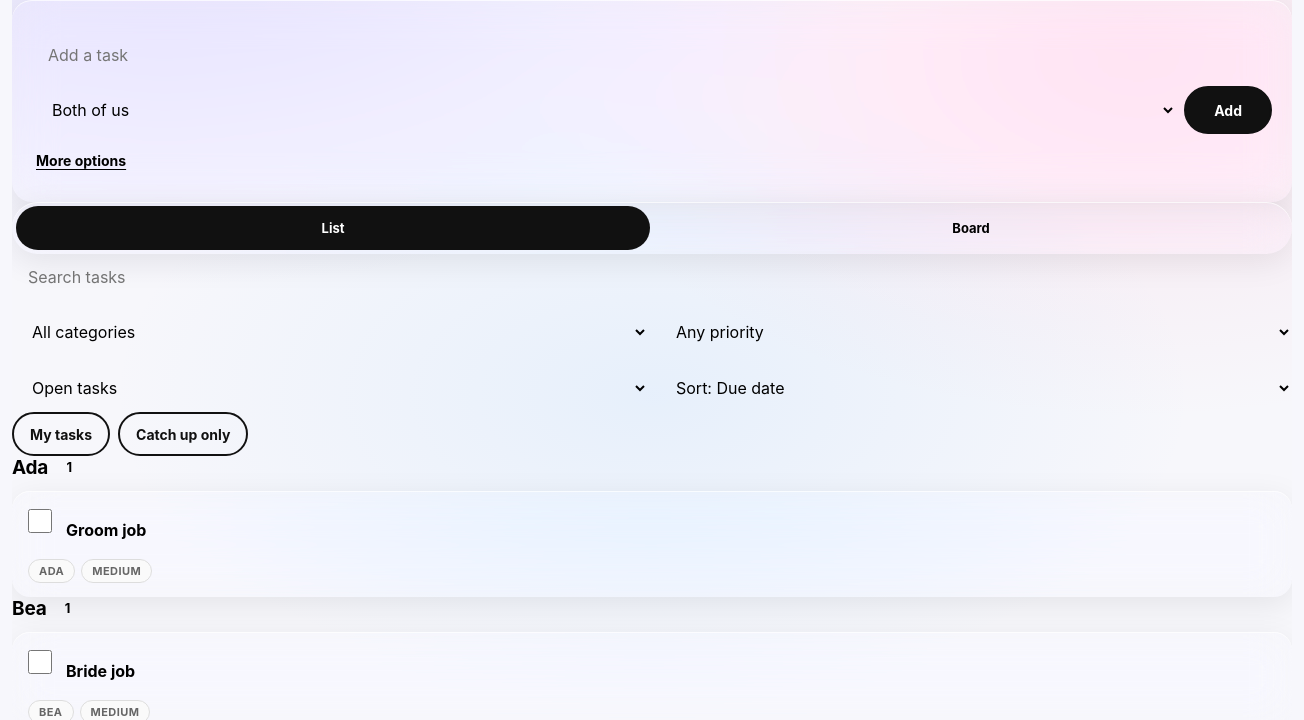
Test: filters and views › "My tasks" shows mine and shared tasks and hides the partner's
Expected: the button "Bride job" is shown, [66, 646, 1276, 690]
Click the button "My tasks".
click(61, 434)  # box [12, 412, 110, 456]
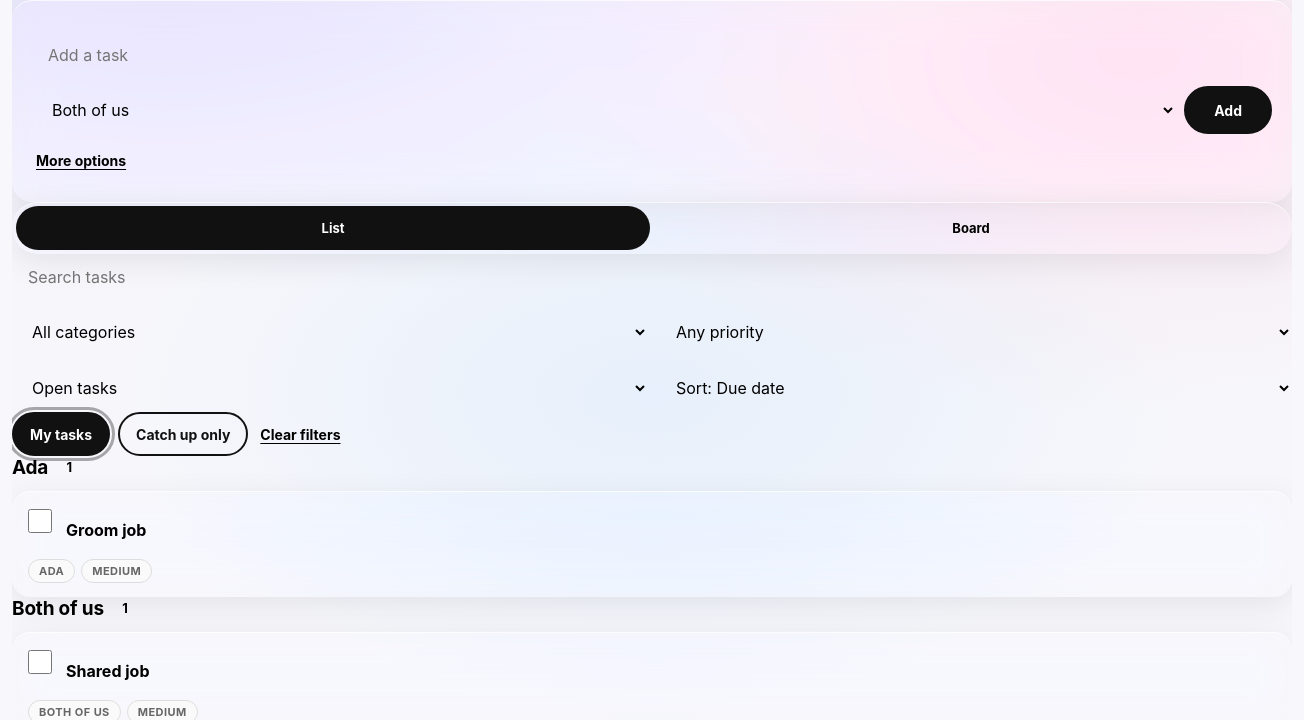
Expected: the button "Groom job" is shown, [66, 505, 1276, 549]
Expected: the button "Bride job" is gone
